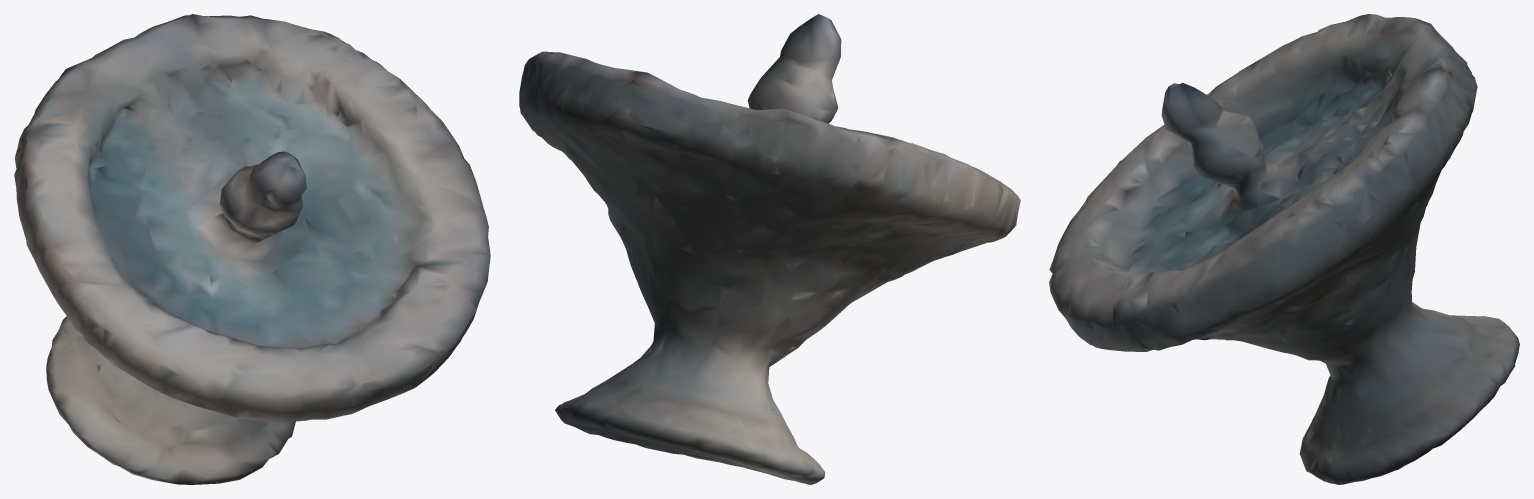
File: fountain.glb
3 views of the same model, side by side, from view 1: azimuth 30°, elevation 25°; view 2: azimuth 150°, elevation 25°; view 3: azimuth 270°, elevation 25° (orthographic). The views are drawn at different scales.
Parts seen in each view (by area): view 1: geometry_0; view 2: geometry_0; view 3: geometry_0.
Boxes of the visible parts, x1=… form: geometry_0: x1=14, y1=14, x2=490, y2=484; geometry_0: x1=519, y1=14, x2=1020, y2=484; geometry_0: x1=1049, y1=14, x2=1519, y2=484.
Bounding box in the file's own units: 0.8448 × 0.7965 × 0.8337.
